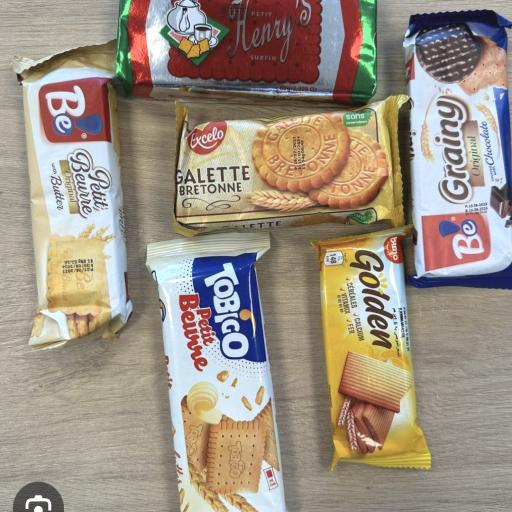petit-beurre: (9, 41, 185, 393)
